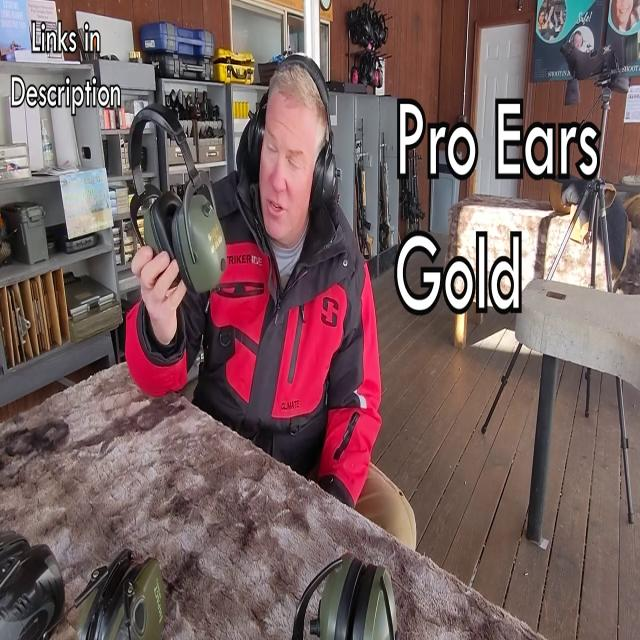earmuff: (170, 189, 230, 297), (141, 187, 185, 264), (307, 146, 344, 224), (242, 102, 267, 186)
